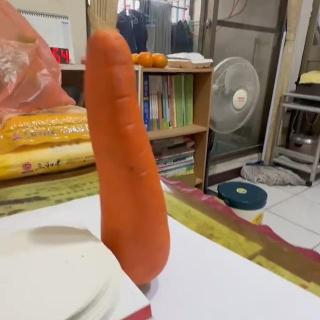carrot: (87, 26, 170, 286)
